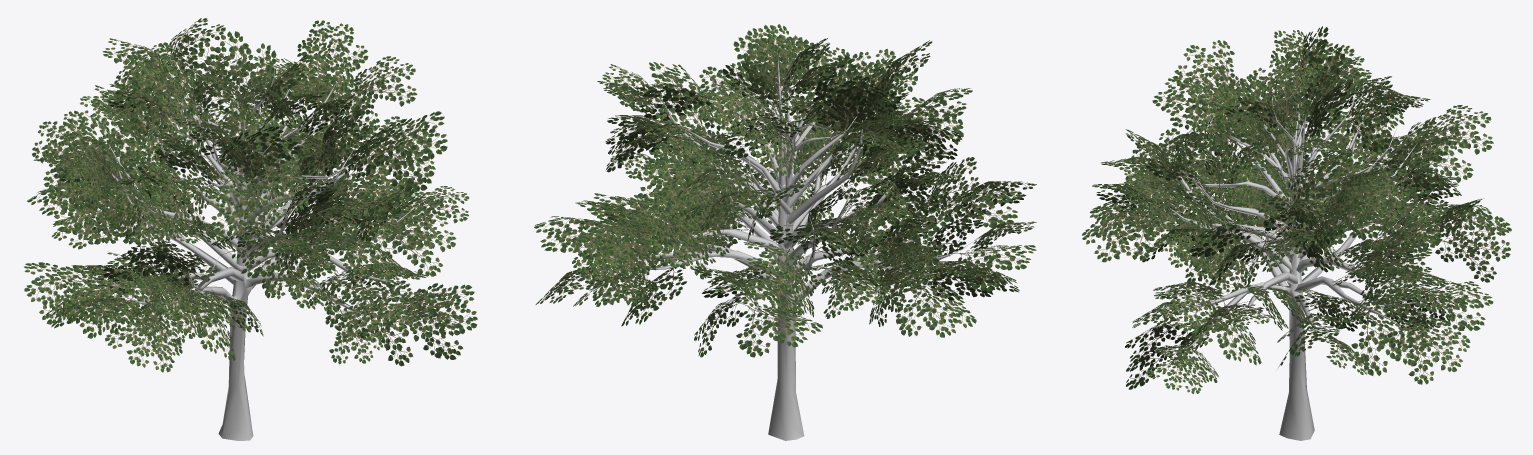
Rendered from Tree2_L1.fbx.
The picture shows the model from 3 angles, left to right: view 1: azimuth 30°, elevation 25°; view 2: azimuth 150°, elevation 25°; view 3: azimuth 270°, elevation 25°; orthographic projection. The views are drawn at different scales.
Visible parts, largest first — view 1: medium_size_tree_trunk_LOD_1_trunk.003; view 2: medium_size_tree_trunk_LOD_1_trunk.003; view 3: medium_size_tree_trunk_LOD_1_trunk.003.
Boxes of the visible parts, x1,y1,x2,y2 form: medium_size_tree_trunk_LOD_1_trunk.003: (24,18,477,440); medium_size_tree_trunk_LOD_1_trunk.003: (534,24,1036,440); medium_size_tree_trunk_LOD_1_trunk.003: (1082,26,1511,440).
Size of the model in its own units: 716 by 613 by 660.
